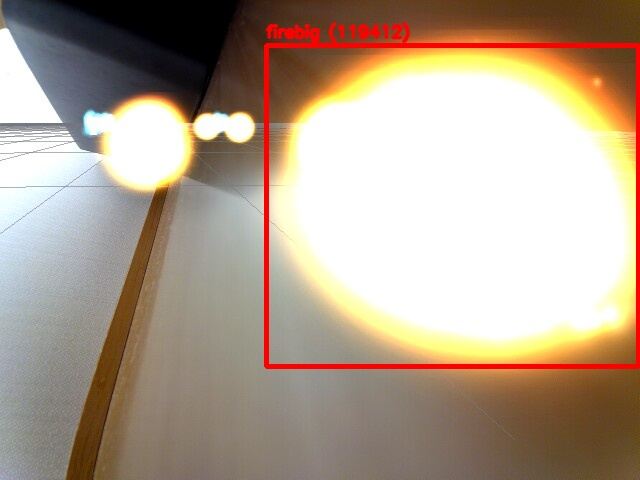firebig: (266, 45, 638, 366)
